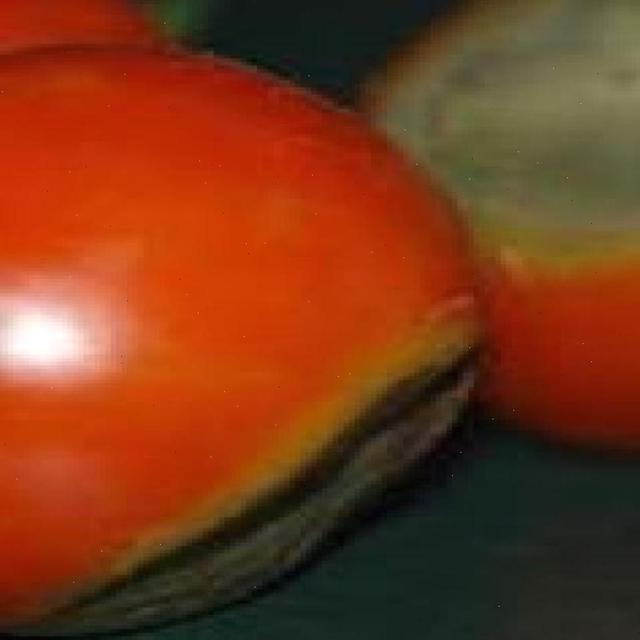Blossom End Rot Fruit: (0, 194, 320, 426)
